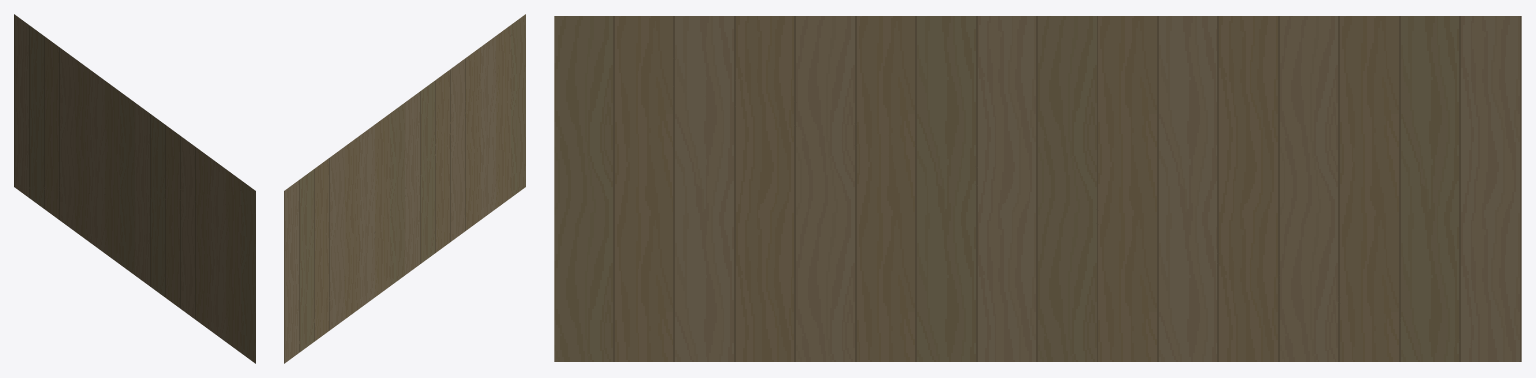
Rendered from kd_stage_135ded_4_12_bounded_piece_0.glb.
3 renders of one model, left to right at view 1: azimuth 30°, elevation 25°; view 2: azimuth 150°, elevation 25°; view 3: azimuth 270°, elevation 25°, orthographic. The views are drawn at different scales.
Visible parts, largest first — view 1: kd_stage_135ded_4_12_bounded_piece_0; view 2: kd_stage_135ded_4_12_bounded_piece_0; view 3: kd_stage_135ded_4_12_bounded_piece_0.
Boxes of the visible parts, bbox=[...] form: kd_stage_135ded_4_12_bounded_piece_0: bbox=[14, 14, 255, 363]; kd_stage_135ded_4_12_bounded_piece_0: bbox=[284, 14, 525, 363]; kd_stage_135ded_4_12_bounded_piece_0: bbox=[554, 16, 1521, 361].
Bounding box in the file's own units: 0 × 0.5475 × 1.39.
1 material, 1 textured.
